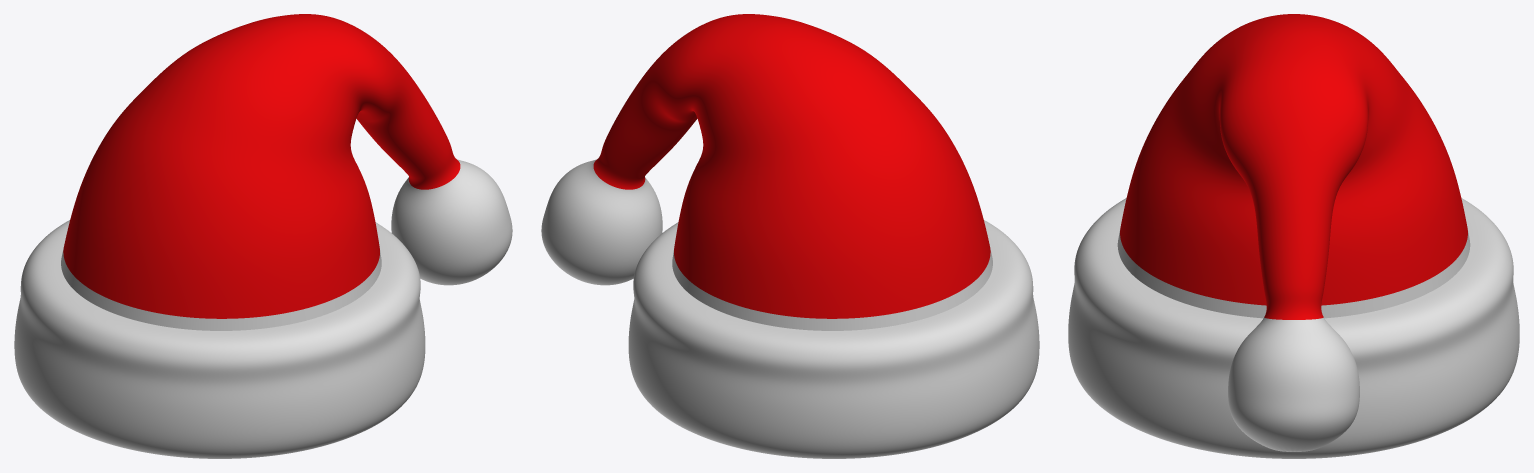
Rendered from santa-hat.fbx.
3 renders of one model, left to right at view 1: azimuth 30°, elevation 25°; view 2: azimuth 150°, elevation 25°; view 3: azimuth 270°, elevation 25°, orthographic. The views are drawn at different scales.
Parts seen in each view (by area): view 1: Enjoy!; view 2: Enjoy!; view 3: Enjoy!.
Part boxes in pixels (<box>): Enjoy!: <box>14,14,512,458</box>; Enjoy!: <box>541,14,1039,458</box>; Enjoy!: <box>1068,14,1519,458</box>.
Size of the model in its own units: 940 by 662 by 723.
